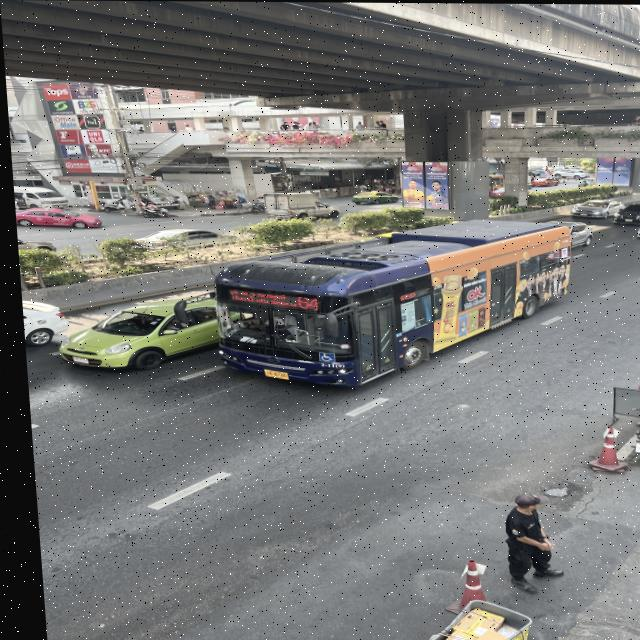Bus-Line-Number: (290, 292, 319, 310)
Destination-Sign-Normal: (221, 289, 291, 309)
TSB-Bus: (205, 219, 579, 391)
